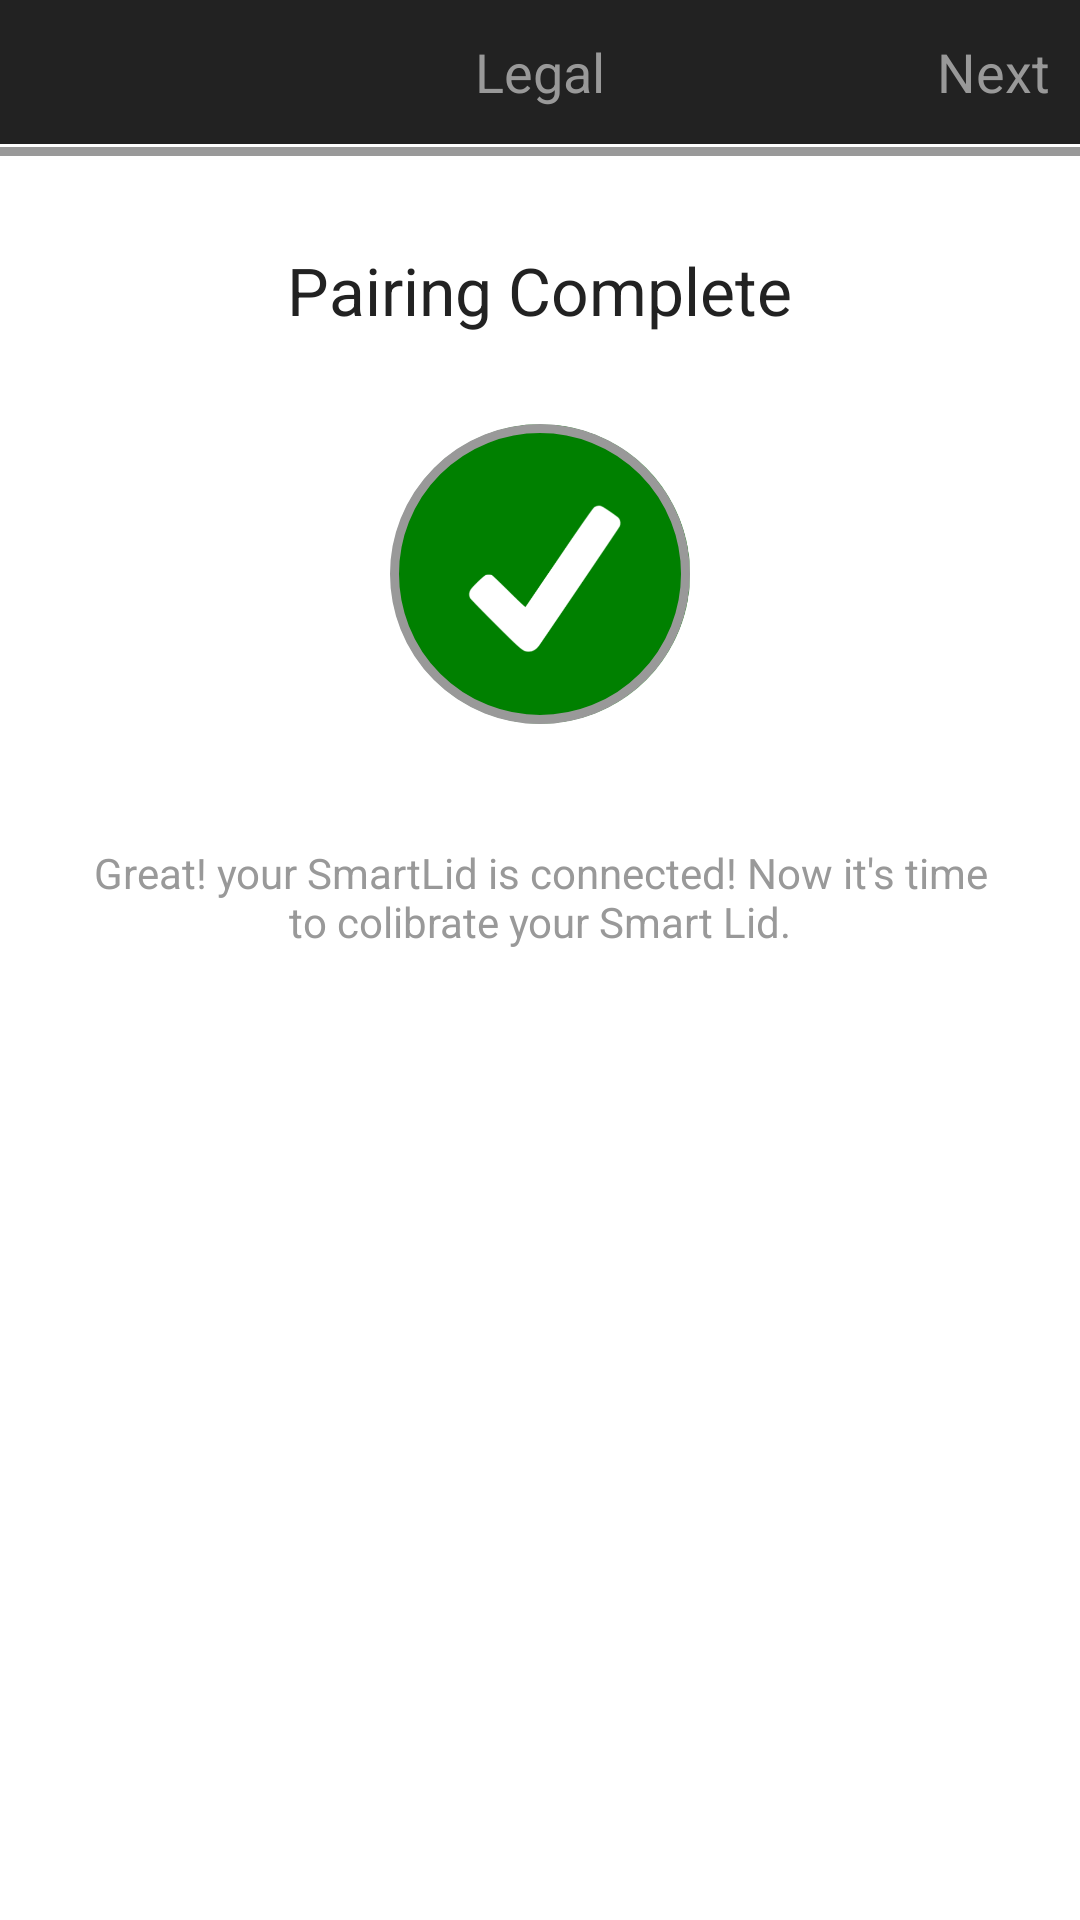

Point at icon controls on the screen. Image size 1080px×1920px, points as point (x, y).
fitbit enable check: point (540, 574)
